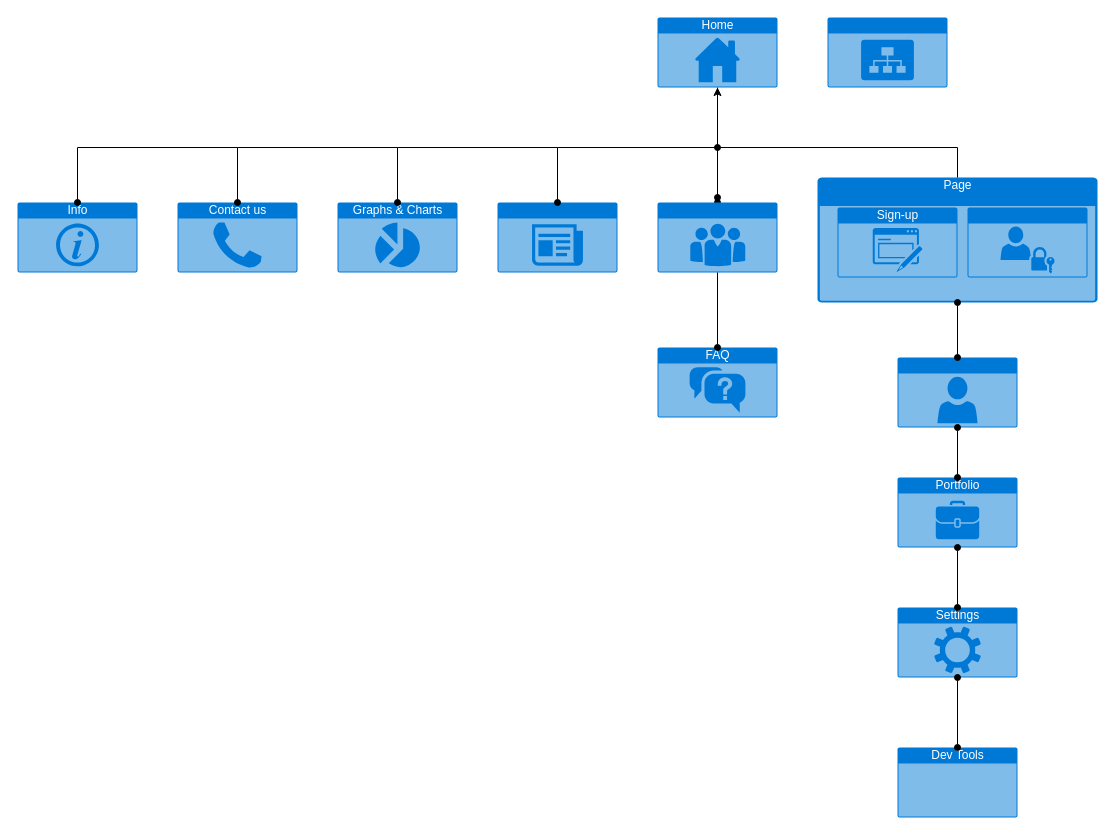
Image size: 1114x834. Some labels were removed from this diagram. The centre of each missing label's shape, as x and y in pixels:
About us: the point at 717,237
Login: the point at 1027,242
News: the point at 557,237
Sitemap: the point at 887,52
User Dashboard: the point at 957,392
